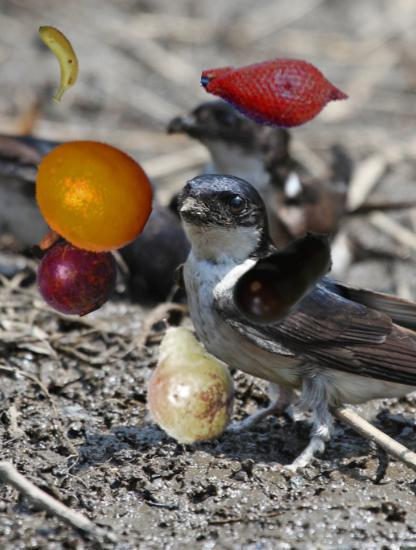Banana: (18, 22, 97, 101)
Eggplant: (224, 213, 350, 339)
Lemon: (29, 133, 154, 258)
Mangostan: (19, 211, 125, 317)
Pear: (120, 315, 255, 450)
Salak: (200, 18, 350, 168)
